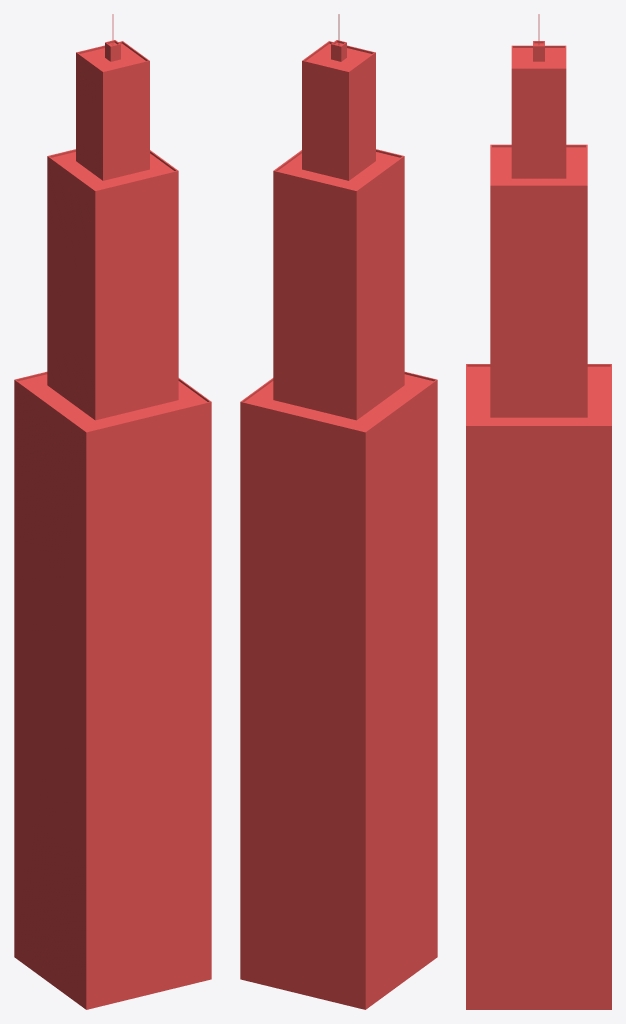
File: Building_03_5.FBX
The picture shows the model from 3 angles, left to right: view 1: azimuth 30°, elevation 25°; view 2: azimuth 150°, elevation 25°; view 3: azimuth 270°, elevation 25°; orthographic projection.
Parts seen in each view (by area): view 1: Building_03_5; view 2: Building_03_5; view 3: Building_03_5.
Boxes of the visible parts, bbox=[...] form: Building_03_5: bbox=[14, 14, 211, 1009]; Building_03_5: bbox=[240, 14, 437, 1009]; Building_03_5: bbox=[466, 14, 611, 1009].
Size of the model in its own units: 35947 by 261623 by 35838.
